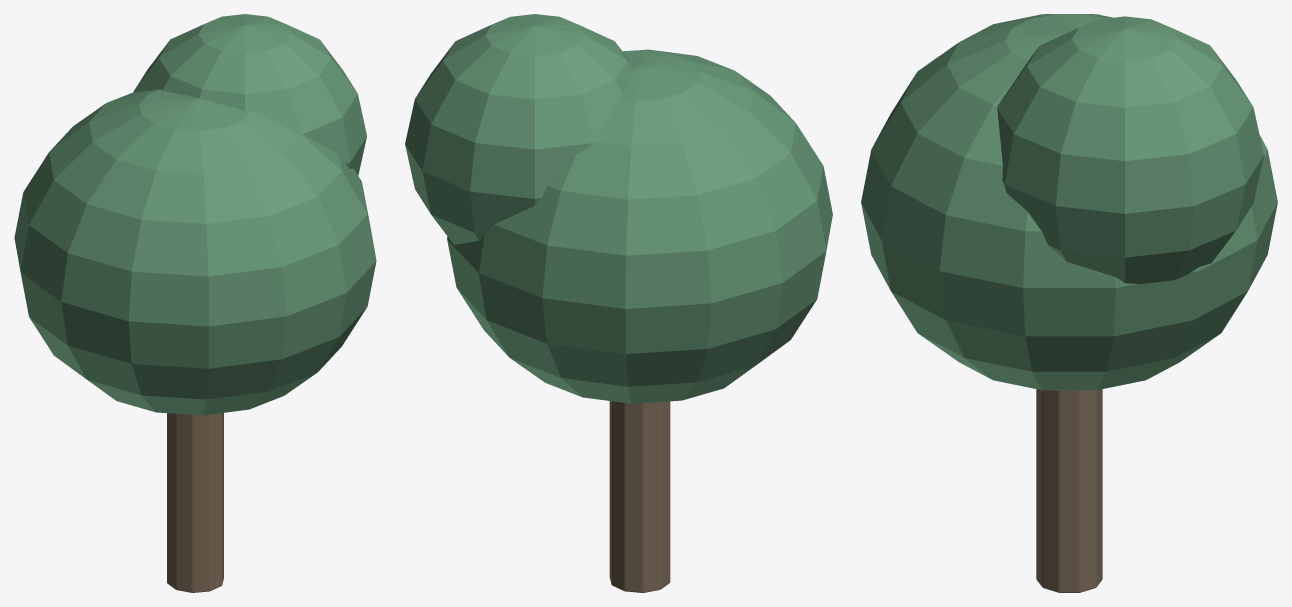
The model's file is SM_Kurpark_Tree.fbx.
3 views of the same model, side by side, from view 1: azimuth 30°, elevation 25°; view 2: azimuth 150°, elevation 25°; view 3: azimuth 270°, elevation 25° (orthographic). The views are drawn at different scales.
Parts seen in each view (by area): view 1: SM_Kurpark_Tree; view 2: SM_Kurpark_Tree; view 3: SM_Kurpark_Tree.
Boxes of the visible parts, <box> form: SM_Kurpark_Tree: <box>14,14,376,592</box>; SM_Kurpark_Tree: <box>405,14,832,592</box>; SM_Kurpark_Tree: <box>861,14,1277,592</box>.
Size of the model in its own units: 3.16 by 4.7 by 3.
